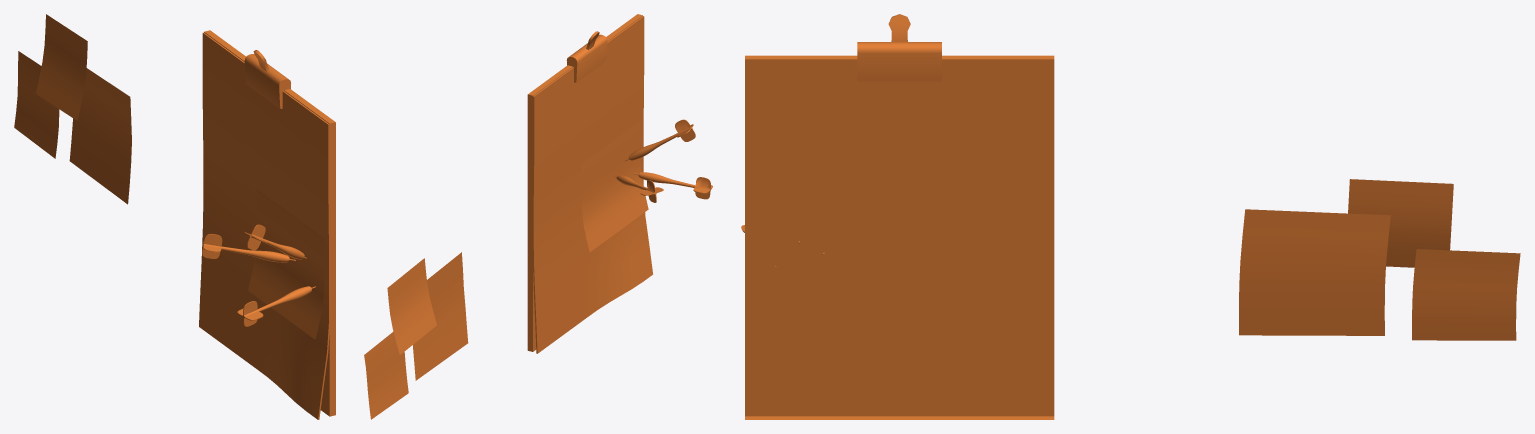
The model's file is extra_objects.fbx.
3 views of the same model, side by side, from view 1: azimuth 30°, elevation 25°; view 2: azimuth 150°, elevation 25°; view 3: azimuth 270°, elevation 25° (orthographic). The views are drawn at different scales.
Parts seen in each view (by area): view 1: Cube.005, Plane, Post-It.003, Post-It.001, Cube, Post-It.002, Cube.004, BezierCurve.001, BezierCurve.003, BezierCurve.002; view 2: Cube.005, Plane, Post-It.003, Post-It.001, Post-It.002, Cube, Cube.004, BezierCurve.003, BezierCurve.002, BezierCurve.001; view 3: Cube, Post-It.003, Post-It.002, Post-It.001, Cube.004.
Boxes of the visible parts, x1=… form: Cube.005: x1=199, y1=32, x2=330, y2=419; Plane: x1=248, y1=189, x2=324, y2=339; Post-It.003: x1=69, y1=68, x2=131, y2=204; Post-It.001: x1=36, y1=14, x2=87, y2=120; Cube: x1=204, y1=30, x2=335, y2=416; Post-It.002: x1=14, y1=51, x2=59, y2=158; Cube.004: x1=244, y1=54, x2=290, y2=108; BezierCurve.001: x1=202, y1=234, x2=295, y2=262; BezierCurve.003: x1=237, y1=286, x2=315, y2=326; BezierCurve.002: x1=244, y1=224, x2=306, y2=259; Cube.005: x1=532, y1=16, x2=653, y2=353; Plane: x1=581, y1=121, x2=648, y2=252; Post-It.003: x1=413, y1=252, x2=468, y2=380; Post-It.001: x1=387, y1=258, x2=436, y2=354; Post-It.002: x1=364, y1=331, x2=408, y2=419; Cube: x1=527, y1=14, x2=642, y2=351; Cube.004: x1=566, y1=34, x2=607, y2=82; BezierCurve.003: x1=633, y1=172, x2=712, y2=199; BezierCurve.002: x1=625, y1=119, x2=695, y2=161; BezierCurve.001: x1=615, y1=175, x2=663, y2=202; Cube: x1=745, y1=55, x2=1054, y2=419; Post-It.003: x1=1239, y1=209, x2=1390, y2=335; Post-It.002: x1=1412, y1=249, x2=1520, y2=340; Post-It.001: x1=1348, y1=179, x2=1453, y2=267; Cube.004: x1=857, y1=42, x2=941, y2=81.
Size of the model in its own units: 15.29 by 52.67 by 93.51.
